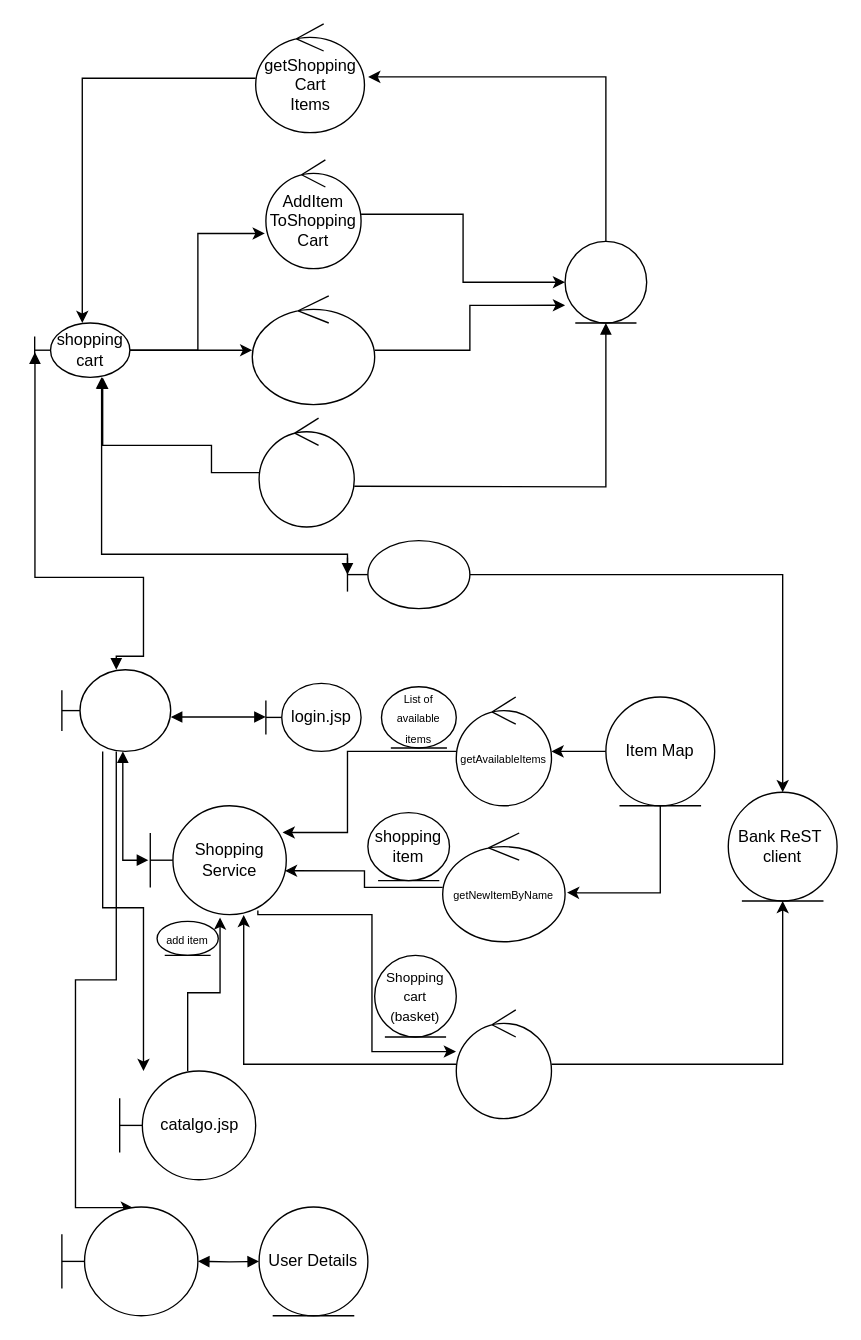
This 861x1340 diagram has some shape labels left out. The centre of each missing label's shape, as x and y in pixels:
"checkout.jsp" belongs at [408,574].
"chekout basket" belongs at [503,1063].
"getTotal" belongs at [306,472].
"home.jsp" belongs at [116,709].
"modifyUser.jsp" belongs at [129,1261].
"RemoveItem From Shoping Cart" belongs at [313,349].
"shopping cart items" belongs at [605,281].
